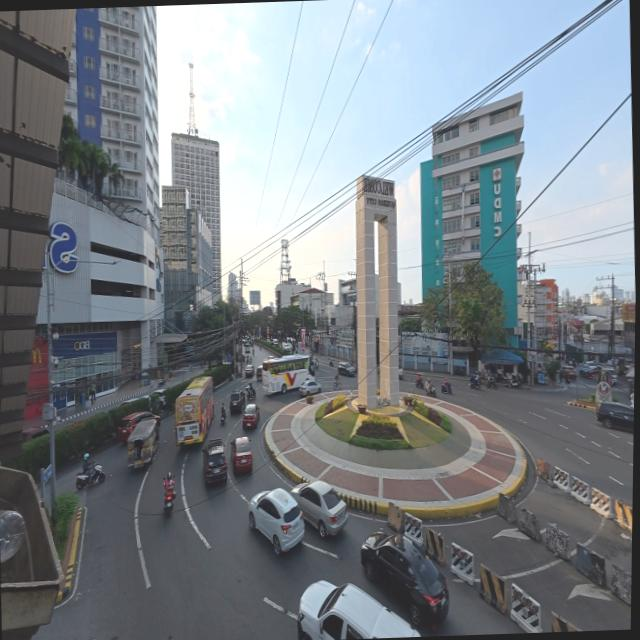Jeepneys: (127, 419, 158, 467)
bus: (174, 377, 213, 445), (261, 355, 313, 393)
car: (361, 532, 448, 626), (297, 581, 419, 639), (247, 489, 303, 555), (290, 480, 346, 538), (116, 411, 159, 442), (595, 402, 633, 432), (202, 439, 226, 483), (230, 437, 252, 473), (242, 404, 258, 429), (21, 427, 47, 442), (228, 389, 244, 413), (298, 379, 320, 396), (599, 366, 616, 384), (150, 389, 165, 407), (336, 362, 354, 376), (559, 364, 574, 379), (255, 366, 263, 380), (244, 365, 253, 377), (281, 343, 291, 352), (244, 343, 251, 354), (397, 368, 402, 379), (272, 338, 277, 346)
motorcycle: (75, 463, 104, 490), (163, 478, 176, 514), (163, 490, 175, 514), (494, 372, 507, 384), (468, 375, 479, 389), (424, 383, 435, 396), (486, 375, 496, 389), (508, 378, 520, 389), (440, 382, 451, 394), (477, 370, 486, 382), (246, 389, 255, 400), (415, 379, 423, 388), (220, 412, 225, 425), (157, 377, 164, 386), (329, 358, 333, 367)
